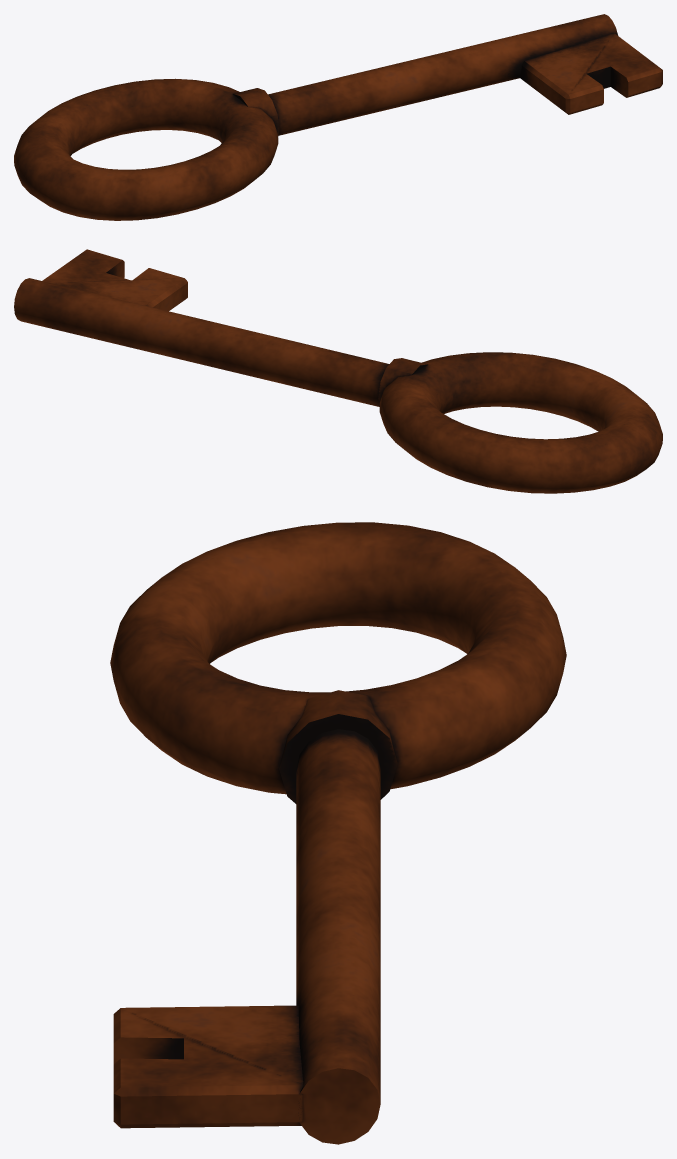
Rendered from key_attic.glb.
3 views of the same model, one above another, from view 1: azimuth 30°, elevation 25°; view 2: azimuth 150°, elevation 25°; view 3: azimuth 270°, elevation 25° (orthographic). The views are drawn at different scales.
Parts seen in each view (by area): view 1: KeyAttic; view 2: KeyAttic; view 3: KeyAttic.
Part boxes in pixels (box(x1,y1,x2,y2)): KeyAttic: box(14, 14, 662, 220); KeyAttic: box(14, 249, 662, 493); KeyAttic: box(110, 522, 566, 1144).
Size of the model in its own units: 0.0957 by 0.00928 by 0.0325.
Materials: 1 (1 with a texture image).
